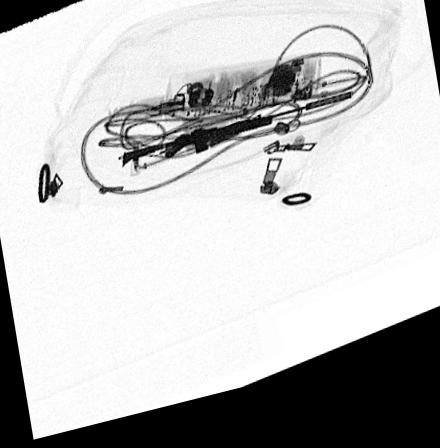Gun: (119, 106, 354, 173)
